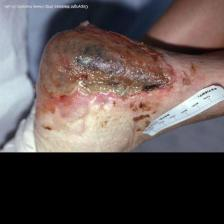Wound: (38, 22, 179, 104)
